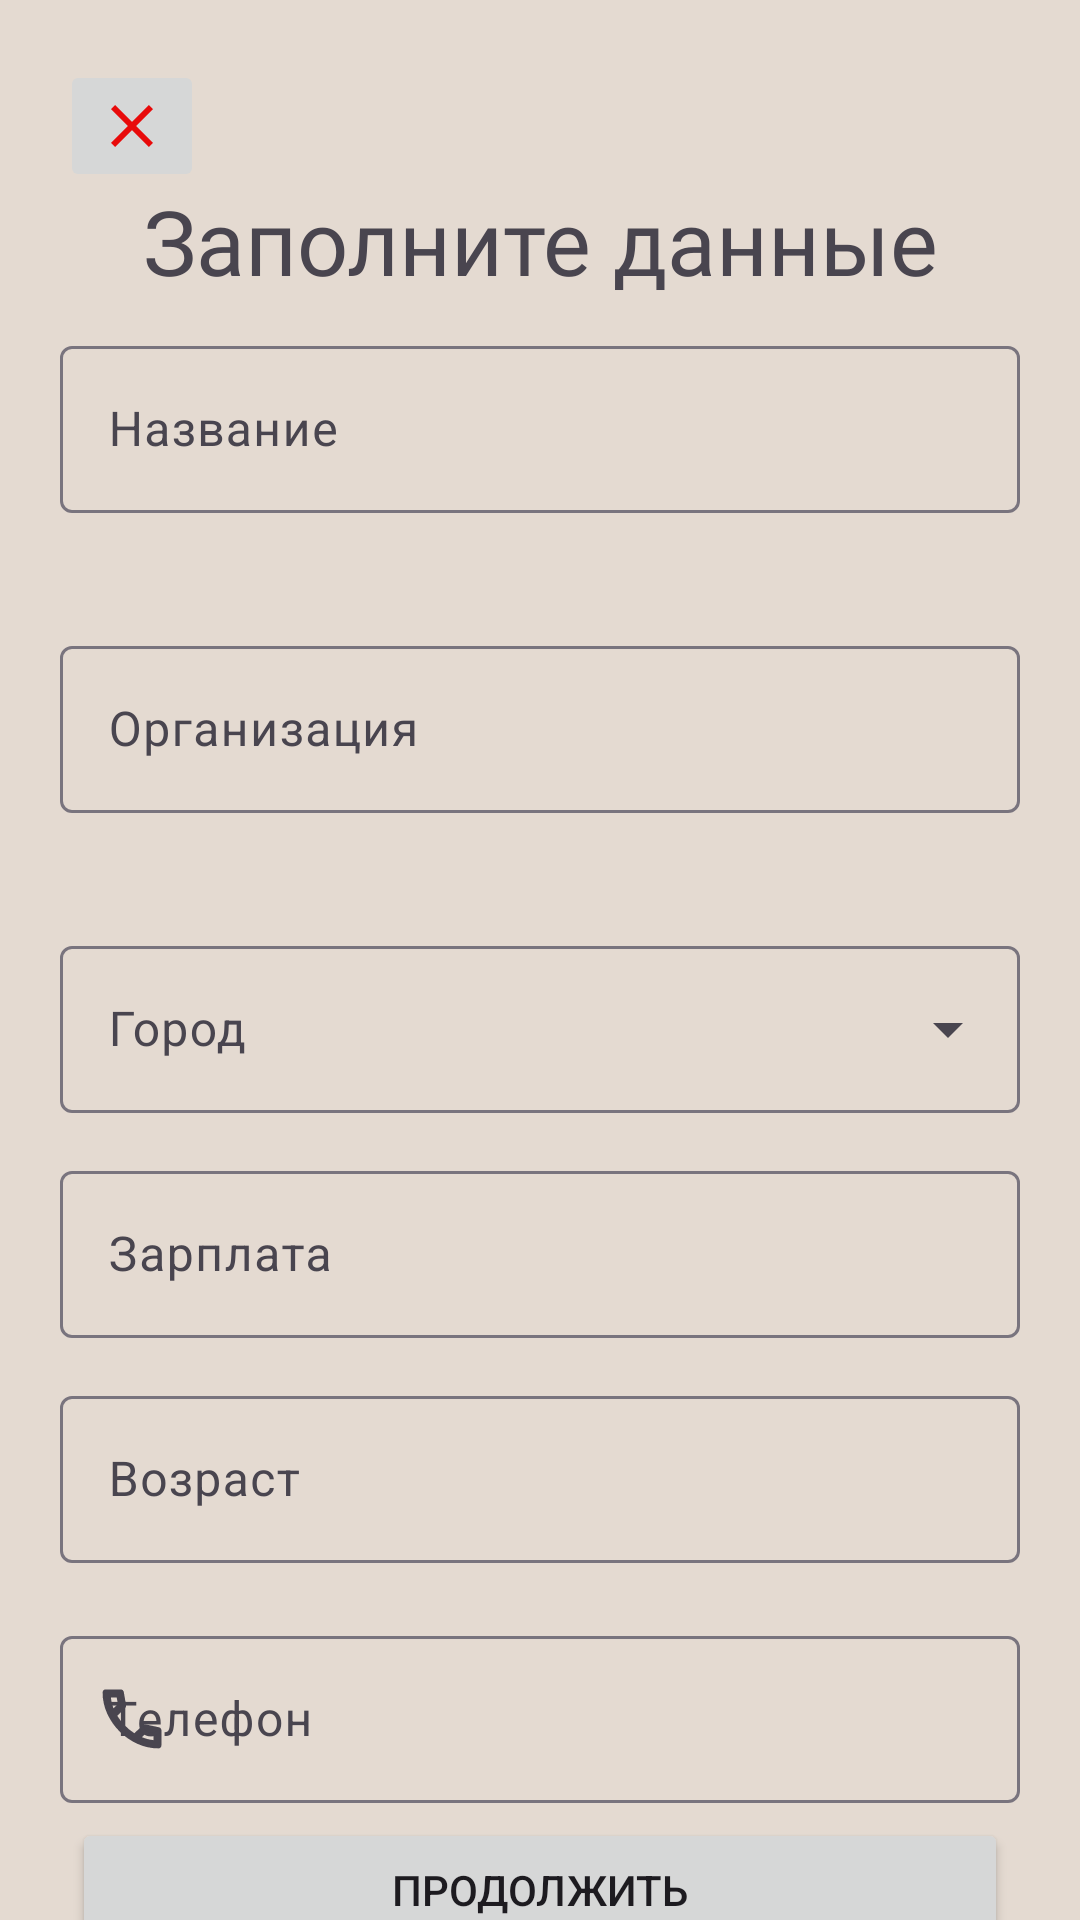

Icon bounding boxes for this 1080w x 1920h phone screenshot, format bbox=(x1, y1, x2, y2):
close: bbox=(72, 78, 192, 174)
